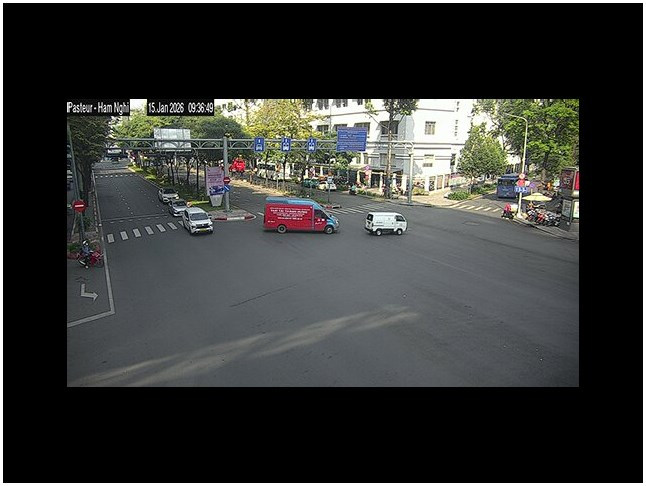bus: (263, 196, 339, 234), (496, 173, 535, 199)
car: (263, 197, 340, 234), (364, 212, 407, 235), (180, 206, 214, 235), (158, 188, 179, 203)
truck: (263, 197, 339, 234)
